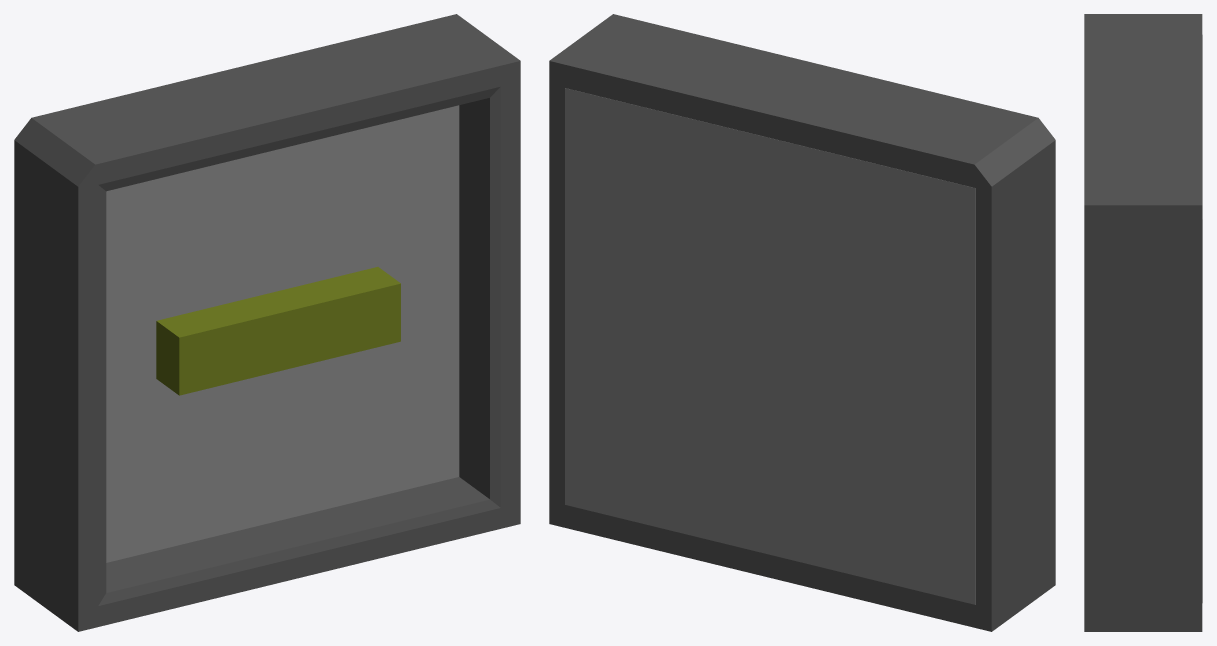
The model's file is buttons_minus.glb.
3 views of the same model, side by side, from view 1: azimuth 30°, elevation 25°; view 2: azimuth 150°, elevation 25°; view 3: azimuth 270°, elevation 25° (orthographic). The views are drawn at different scales.
Visible parts, largest first — view 1: Minus, Cube.014; view 2: Cube.014, Minus; view 3: Minus, Cube.014.
Part boxes in pixels (<box>): Minus: <box>14,14,520,631</box>; Cube.014: <box>106,105,459,562</box>; Cube.014: <box>565,88,975,604</box>; Minus: <box>549,14,1055,631</box>; Minus: <box>1084,14,1202,631</box>; Cube.014: <box>1202,35,1202,602</box>.
Size of the model in its own units: 3.99 by 3.99 by 1.
